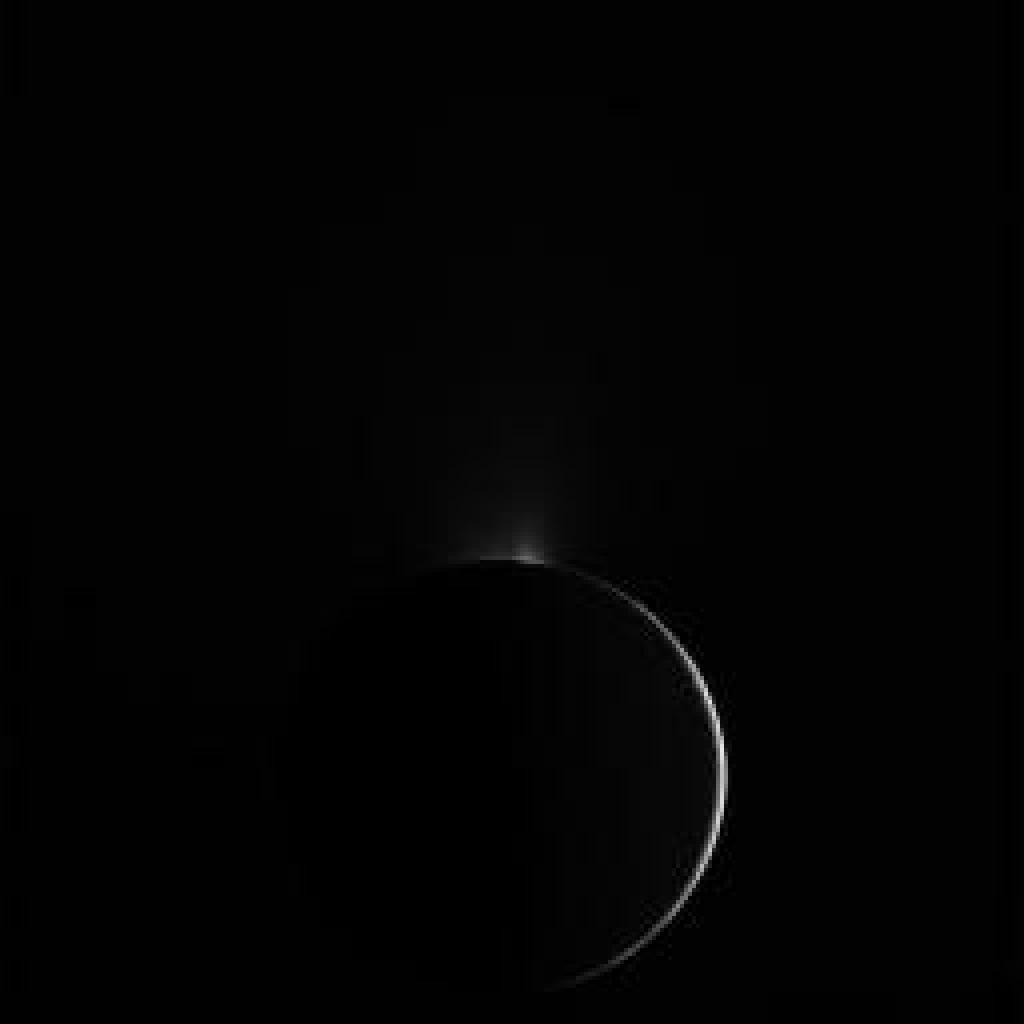plumes: (463, 505, 551, 560)
